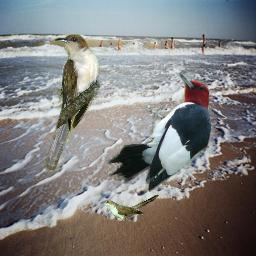Cuckoo: (45, 34, 100, 172), (100, 194, 159, 221)
Woodpecker: (106, 72, 211, 192)
